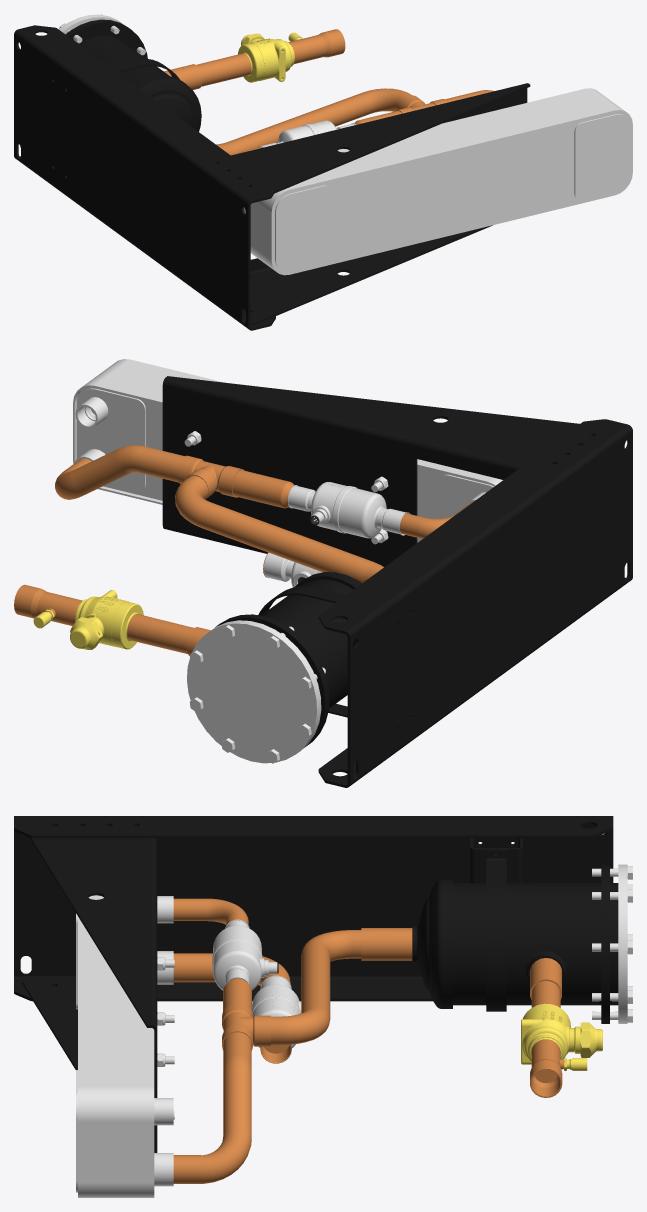
File: Economizer.gltf
The picture shows the model from 3 angles, top to bottom: view 1: azimuth 30°, elevation 25°; view 2: azimuth 150°, elevation 25°; view 3: azimuth 270°, elevation 25°; orthographic projection. The views are drawn at different scales.
Visible parts, largest first — view 1: C62-E-38, Solid1.011, Solid1, Solid1.004, Solid1.005, Solid1.008, Solid1.013, Solid1.003, Solid1.007; view 2: Solid1.011, Solid1, Solid1.004, C62-E-38, Solid1.005, Solid1.008, Solid1.013, Solid1.006, Solid1.014, Solid1.007, Solid1.016, Solid1.003 (+1 smaller); view 3: Solid1.011, Solid1.004, C62-E-38, Solid1, Solid1.005, Solid1.006, Solid1.008, Solid1.003, Solid1.013, Solid1.016, Solid1.015, Solid1.012 (+3 smaller).
Boxes of the visible parts, x1,y1,x2,y2 form: C62-E-38: [243, 88, 632, 275]; Solid1.011: [14, 25, 275, 330]; Solid1: [231, 83, 530, 325]; Solid1.004: [58, 14, 202, 131]; Solid1.005: [196, 29, 345, 86]; Solid1.008: [216, 88, 411, 155]; Solid1.013: [258, 120, 355, 147]; Solid1.003: [109, 58, 179, 79]; Solid1.007: [396, 95, 447, 113]; Solid1.011: [318, 419, 632, 787]; Solid1: [162, 376, 580, 566]; Solid1.004: [186, 572, 361, 763]; C62-E-38: [73, 359, 502, 544]; Solid1.005: [14, 584, 193, 653]; Solid1.008: [175, 475, 383, 583]; Solid1.013: [287, 482, 409, 538]; Solid1.006: [55, 445, 184, 499]; Solid1.014: [232, 470, 294, 508]; Solid1.007: [177, 455, 244, 499]; Solid1.016: [263, 552, 321, 587]; Solid1.003: [258, 586, 347, 717]; Solid1.011: [14, 816, 613, 1001]; Solid1.004: [361, 864, 632, 1023]; C62-E-38: [76, 895, 174, 1197]; Solid1: [22, 837, 157, 1152]; Solid1.005: [521, 981, 602, 1097]; Solid1.006: [173, 1032, 251, 1183]; Solid1.008: [271, 930, 361, 1045]; Solid1.003: [486, 849, 506, 1011]; Solid1.013: [212, 919, 278, 990]; Solid1.016: [252, 975, 301, 1063]; Solid1.015: [173, 898, 248, 924]; Solid1.012: [470, 838, 522, 882].
Bounding box in the file's own units: 2.34 × 0.7087 × 2.4.
